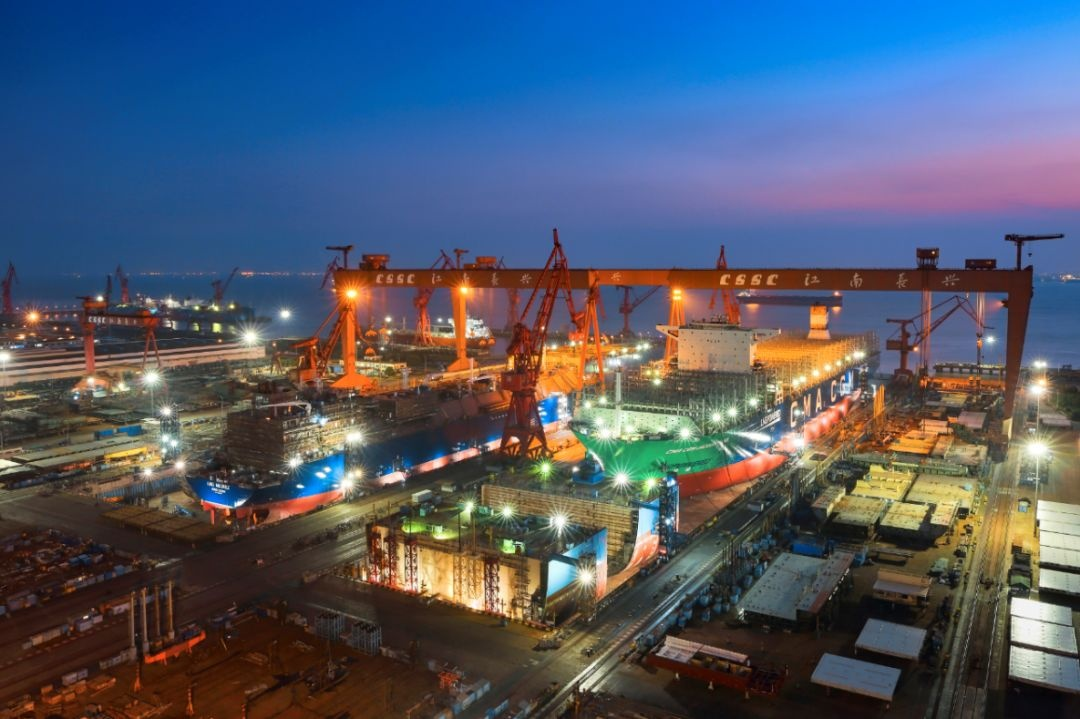Cargoship: (195, 290, 578, 521), (577, 285, 883, 491)
